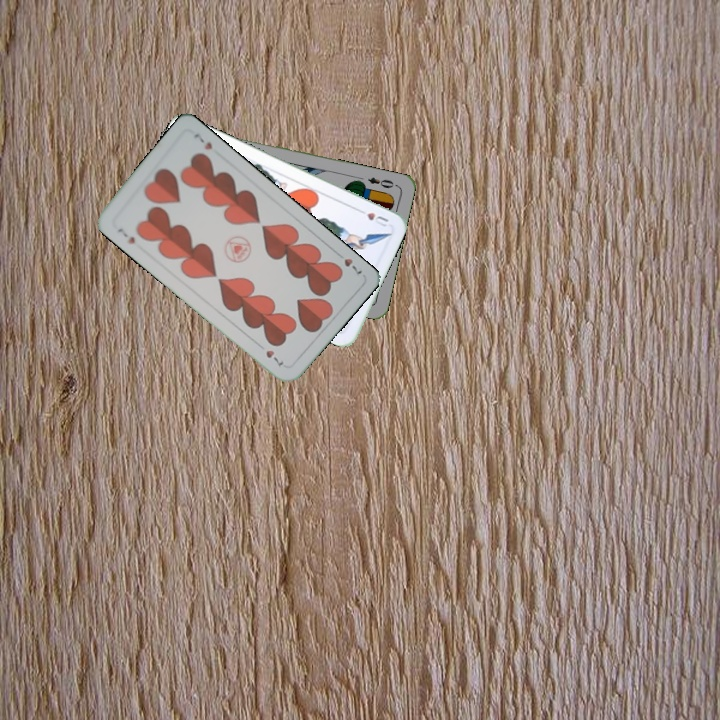EO: (364, 173, 400, 191)
H7: (332, 247, 365, 277), (113, 224, 138, 247)
HU: (353, 204, 391, 229)
